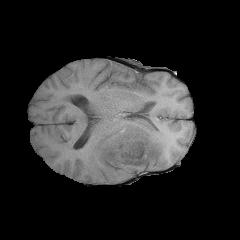glioma: (62, 119, 173, 182)
